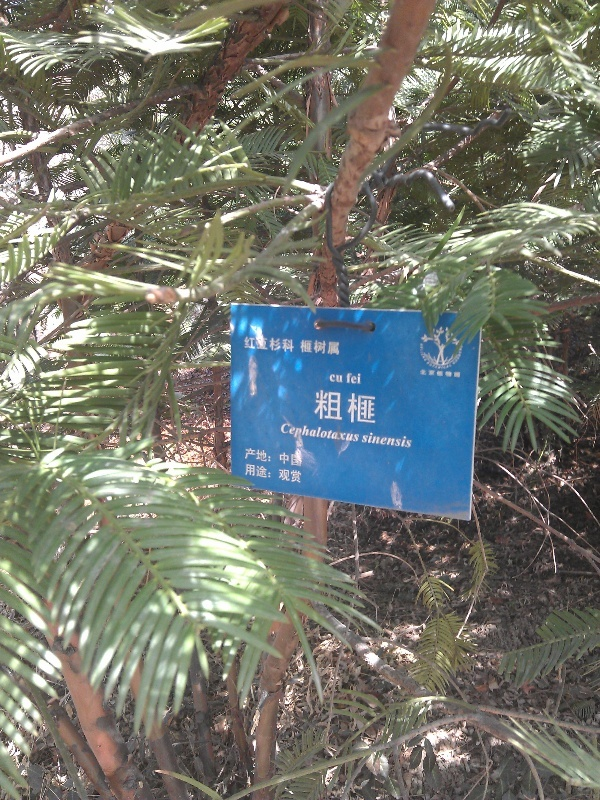text: (321, 389, 336, 425), (337, 389, 352, 425), (353, 389, 368, 425), (289, 421, 304, 446), (305, 421, 320, 446), (321, 421, 336, 446), (337, 421, 352, 446), (369, 389, 379, 425), (257, 446, 272, 467), (273, 446, 288, 467), (289, 446, 303, 467), (257, 464, 272, 483), (273, 464, 288, 483), (289, 464, 304, 483), (369, 431, 384, 450), (385, 431, 400, 450), (257, 336, 272, 353), (273, 336, 288, 353), (305, 339, 320, 356), (321, 339, 336, 356), (245, 446, 256, 467), (401, 431, 413, 450), (243, 336, 256, 353), (280, 421, 288, 446), (353, 421, 361, 446), (246, 464, 256, 483), (433, 368, 448, 379), (449, 368, 463, 379), (419, 368, 432, 379), (353, 372, 363, 386), (289, 336, 296, 353), (317, 389, 320, 425), (346, 372, 352, 386), (364, 431, 368, 450), (337, 374, 344, 384), (337, 339, 341, 356), (330, 374, 336, 384), (301, 339, 304, 356)
